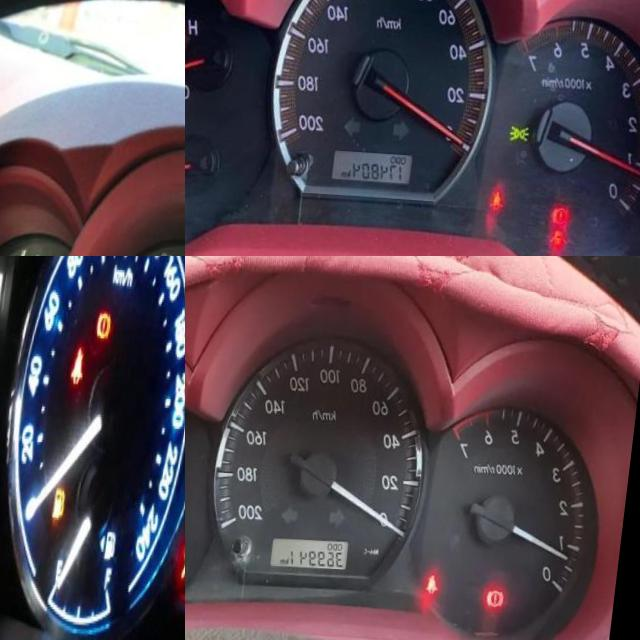Seat Belt: (77, 339, 96, 379), (501, 182, 515, 206), (437, 567, 450, 588)
